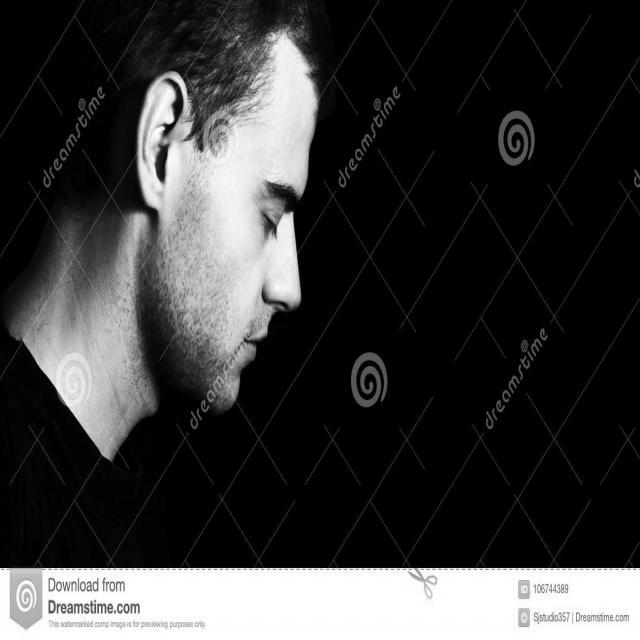real: (116, 0, 319, 420), (257, 164, 307, 264)
